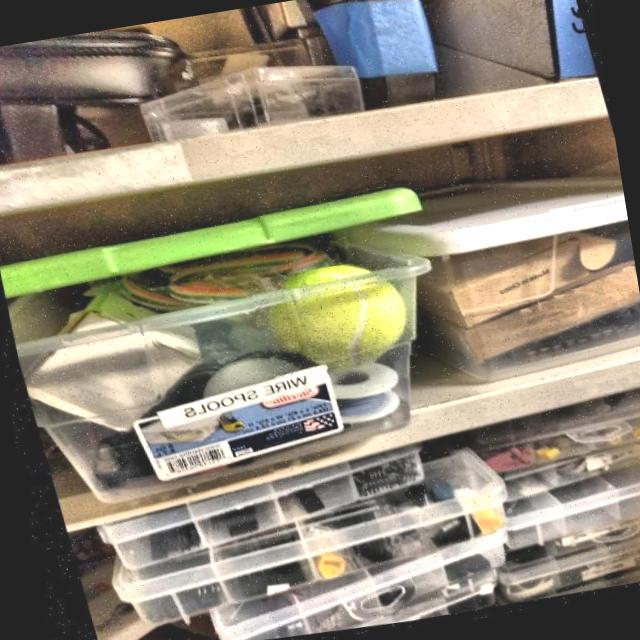Tennis Ball: (242, 253, 416, 388)
